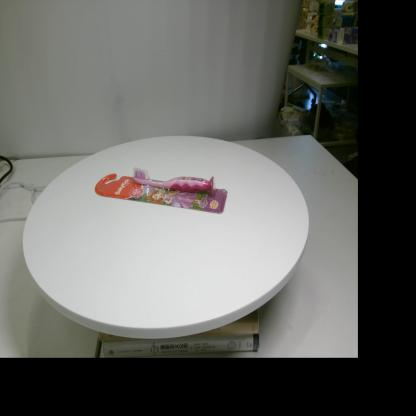Personal Hygiene: (95, 167, 228, 214)
